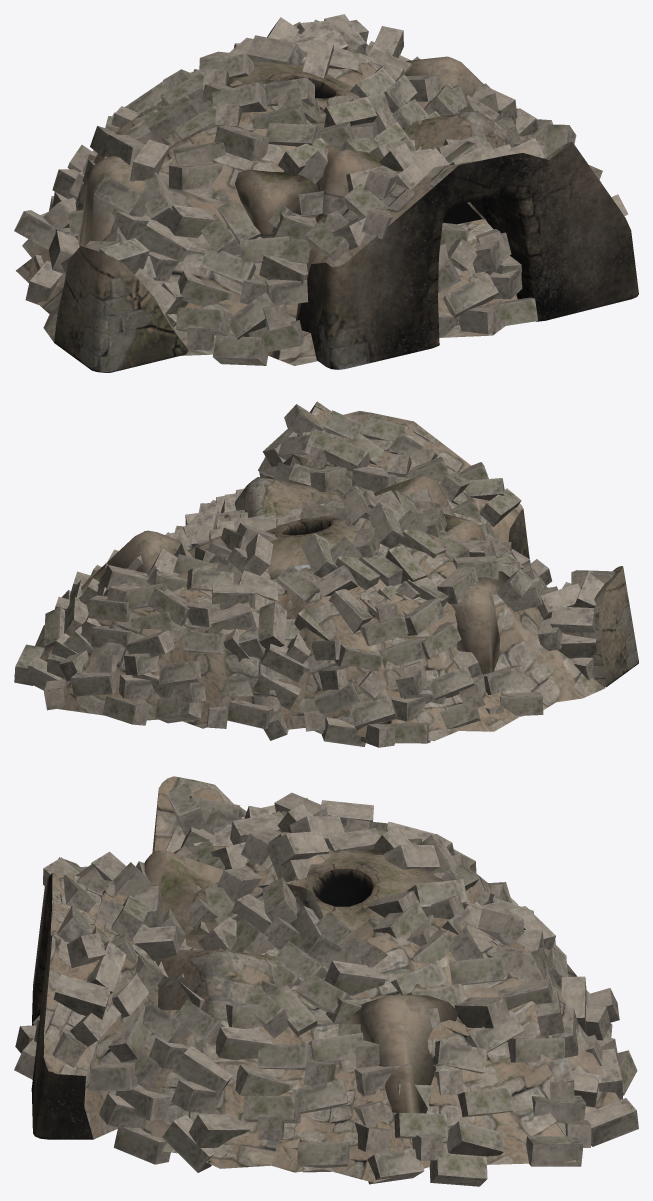
Rendered from Limestone_Burner_Destruction_Stage_3.fbx.
3 renders of one model, top to bottom at view 1: azimuth 30°, elevation 25°; view 2: azimuth 150°, elevation 25°; view 3: azimuth 270°, elevation 25°, orthographic. The views are drawn at different scales.
Visible parts, largest first — view 1: Limestone_Burner_Destruction_S3; view 2: Limestone_Burner_Destruction_S3; view 3: Limestone_Burner_Destruction_S3.
Boxes of the visible parts, x1,y1,x2,y2 form: Limestone_Burner_Destruction_S3: (14,14,638,372); Limestone_Burner_Destruction_S3: (14,401,638,747); Limestone_Burner_Destruction_S3: (14,776,638,1186).
Size of the model in its own units: 413 by 140 by 368.
